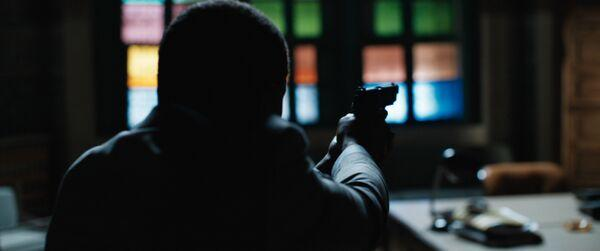Gun: (350, 80, 401, 118)
